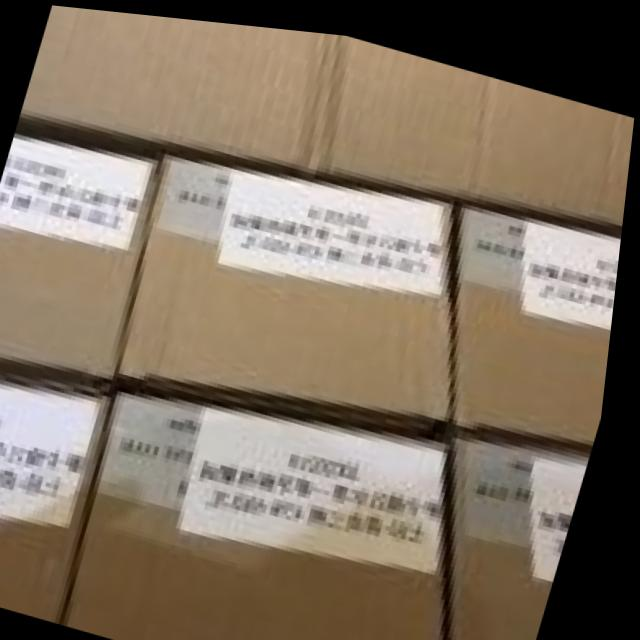box: (78, 378, 463, 640), (123, 150, 462, 416), (0, 129, 166, 379), (461, 191, 626, 432), (462, 417, 601, 640), (0, 369, 122, 618)
